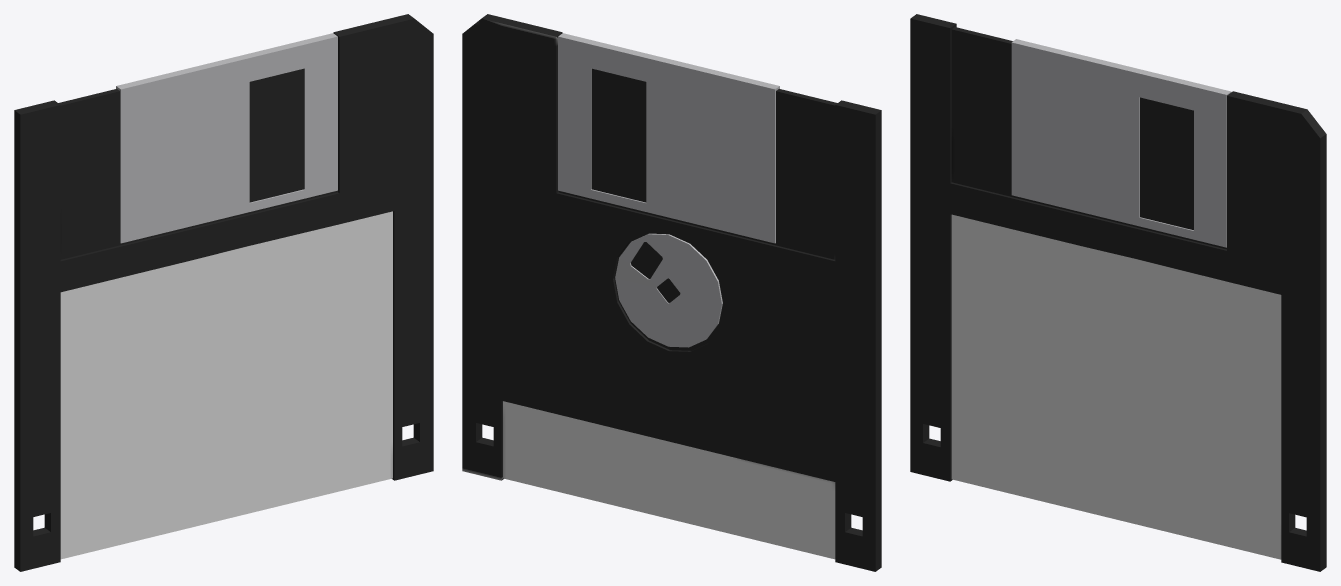
Rendered from 16floppydisk.glb.
3 views of the same model, side by side, from view 1: azimuth 30°, elevation 25°; view 2: azimuth 150°, elevation 25°; view 3: azimuth 330°, elevation 25° (orthographic).
Visible parts, largest first — view 1: FloppyDisk, FloppyDiskCap; view 2: FloppyDisk, FloppyDiskCap; view 3: FloppyDisk, FloppyDiskCap.
Part boxes in pixels (<box>): FloppyDisk: <box>14,14,433,571</box>; FloppyDiskCap: <box>116,33,337,243</box>; FloppyDisk: <box>462,14,881,571</box>; FloppyDiskCap: <box>558,33,779,243</box>; FloppyDisk: <box>910,14,1326,571</box>; FloppyDiskCap: <box>1011,39,1231,247</box>.
Size of the model in its own units: 8.89 by 9.4 by 0.2352.
1 material, 1 textured.
